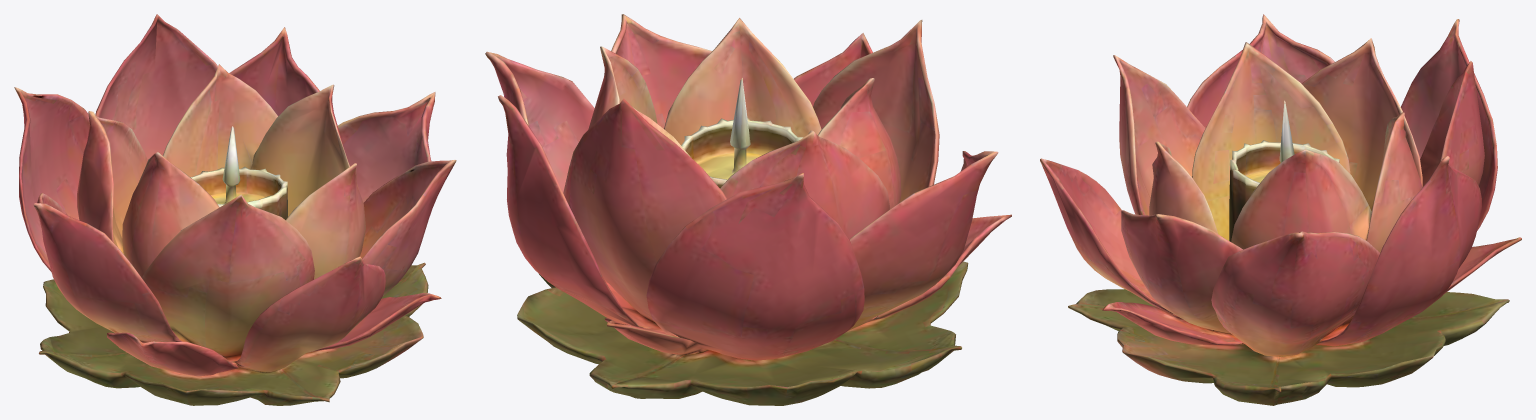
Rendered from hoadang.glb.
3 renders of one model, left to right at view 1: azimuth 30°, elevation 25°; view 2: azimuth 150°, elevation 25°; view 3: azimuth 270°, elevation 25°, orthographic. The views are drawn at different scales.
Visible parts, largest first — view 1: tripo_node_a7fc5fd3-6dd8-40dd-ba7e-560f2e6bad86; view 2: tripo_node_a7fc5fd3-6dd8-40dd-ba7e-560f2e6bad86; view 3: tripo_node_a7fc5fd3-6dd8-40dd-ba7e-560f2e6bad86.
Part boxes in pixels (x1,y1,x2,y2): tripo_node_a7fc5fd3-6dd8-40dd-ba7e-560f2e6bad86: (14, 14, 456, 405); tripo_node_a7fc5fd3-6dd8-40dd-ba7e-560f2e6bad86: (485, 14, 1011, 405); tripo_node_a7fc5fd3-6dd8-40dd-ba7e-560f2e6bad86: (1040, 14, 1521, 405).
Size of the model in its own units: 0.9807 by 0.6084 by 0.9231.
1 material, 1 textured.
